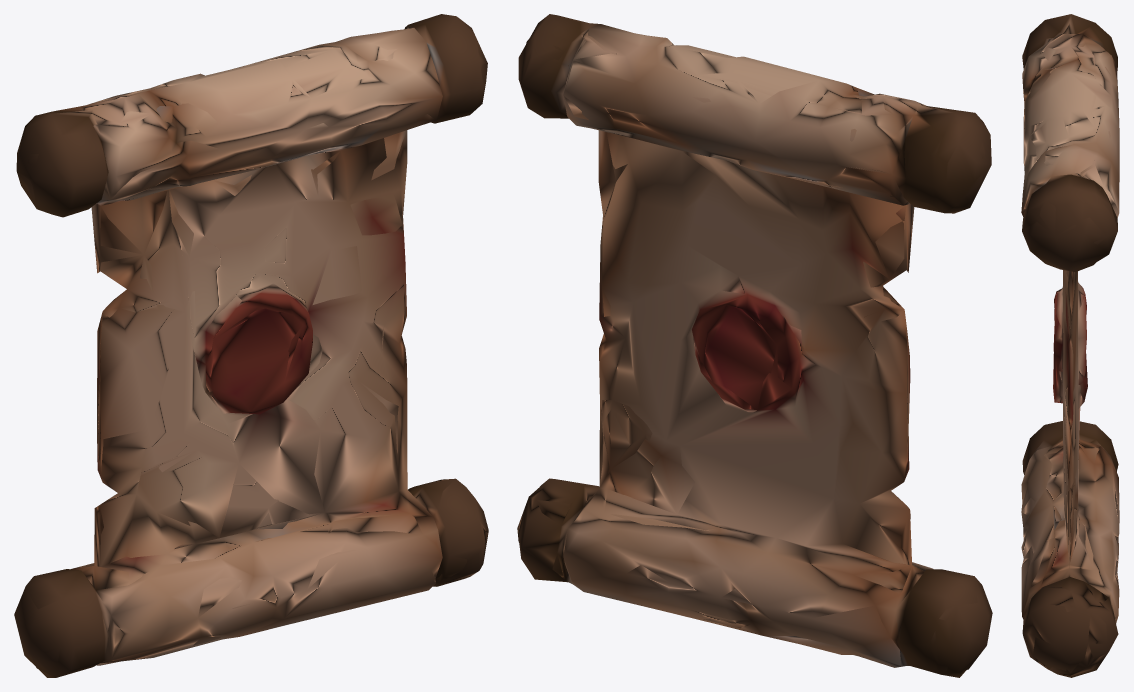
Rendered from gen3d-ancient-scroll-lod0.glb.
The picture shows the model from 3 angles, left to right: view 1: azimuth 30°, elevation 25°; view 2: azimuth 150°, elevation 25°; view 3: azimuth 270°, elevation 25°; orthographic projection. The views are drawn at different scales.
Visible parts, largest first — view 1: part_0; view 2: part_0; view 3: part_0.
Part boxes in pixels (left/top/right/bottom): part_0: left=14, top=14, right=488, bottom=677; part_0: left=517, top=14, right=992, bottom=677; part_0: left=1021, top=14, right=1119, bottom=677.
Size of the model in its own units: 0.8449 by 0.9997 by 0.1808.
